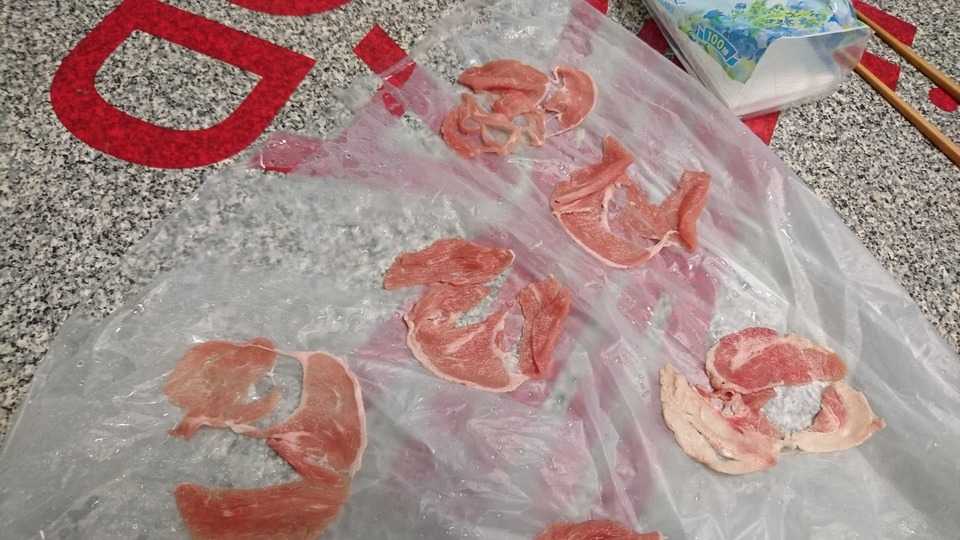restructured meat: (160, 333, 366, 540), (652, 314, 890, 484), (375, 222, 575, 388), (554, 132, 711, 275), (439, 52, 597, 155)
